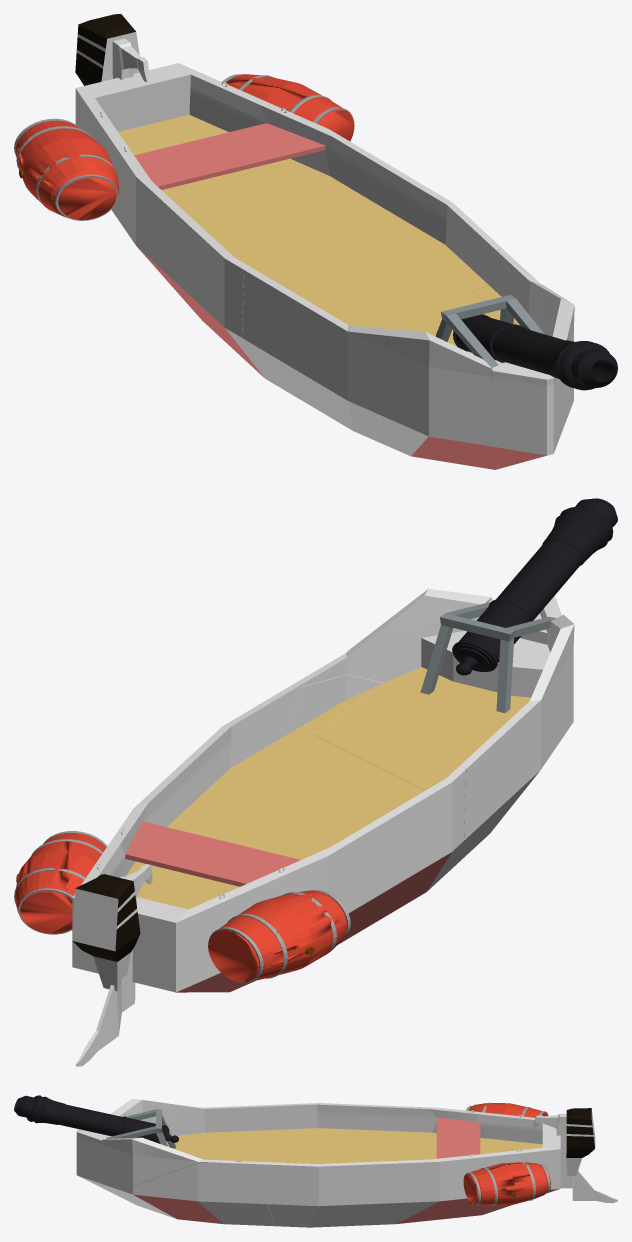
File: Barco1Roto.fbx
3 renders of one model, top to bottom at view 1: azimuth 30°, elevation 25°; view 2: azimuth 150°, elevation 25°; view 3: azimuth 270°, elevation 25°, orthographic. The views are drawn at different scales.
Parts seen in each view (by area): view 1: Motor_cell.001_cell.002, Motor_cell.001_cell, Motor_cell.019, Motor_cell.017, Motor_cell.007, Motor_cell, Motor_cell.018, Motor_cell.001_cell.001, Motor_cell.013; view 2: Motor_cell.001_cell.002, Motor_cell.001_cell, Motor_cell.017, Motor_cell, Motor_cell.007, Motor_cell.019, Motor_cell.018, Motor_cell.001_cell.001, Motor_cell.002, Motor_cell.013; view 3: Motor_cell.001_cell.002, Motor_cell.001_cell, Motor_cell.001_cell.001, Motor_cell.017, Motor_cell.007, Motor_cell.013, Motor_cell, Motor_cell.018, Motor_cell.019.
Part boxes in pixels (bbox=[...]): Motor_cell.001_cell.002: bbox=[75, 63, 501, 386]; Motor_cell.001_cell: bbox=[242, 250, 574, 469]; Motor_cell.019: bbox=[16, 121, 118, 219]; Motor_cell.017: bbox=[453, 314, 617, 390]; Motor_cell.007: bbox=[226, 74, 354, 141]; Motor_cell: bbox=[75, 14, 139, 85]; Motor_cell.018: bbox=[435, 294, 544, 367]; Motor_cell.001_cell.001: bbox=[472, 248, 573, 405]; Motor_cell.013: bbox=[112, 38, 149, 81]; Motor_cell.001_cell.002: bbox=[72, 685, 465, 992]; Motor_cell.001_cell: bbox=[300, 588, 574, 881]; Motor_cell.017: bbox=[452, 498, 617, 675]; Motor_cell: bbox=[72, 874, 140, 990]; Motor_cell.007: bbox=[14, 833, 105, 933]; Motor_cell.019: bbox=[219, 890, 347, 978]; Motor_cell.018: bbox=[420, 602, 556, 712]; Motor_cell.001_cell.001: bbox=[290, 658, 383, 734]; Motor_cell.002: bbox=[208, 906, 276, 982]; Motor_cell.013: bbox=[76, 864, 152, 1066]; Motor_cell.001_cell.002: bbox=[249, 1103, 560, 1227]; Motor_cell.001_cell: bbox=[76, 1099, 298, 1215]; Motor_cell.001_cell.001: bbox=[127, 1161, 274, 1226]; Motor_cell.017: bbox=[14, 1095, 178, 1143]; Motor_cell.007: bbox=[463, 1162, 550, 1205]; Motor_cell.013: bbox=[533, 1113, 617, 1203]; Motor_cell: bbox=[566, 1108, 595, 1175]; Motor_cell.018: bbox=[106, 1109, 175, 1148]; Motor_cell.019: bbox=[466, 1102, 540, 1117].
Size of the model in its own units: 2.84 by 1.88 by 8.5.
